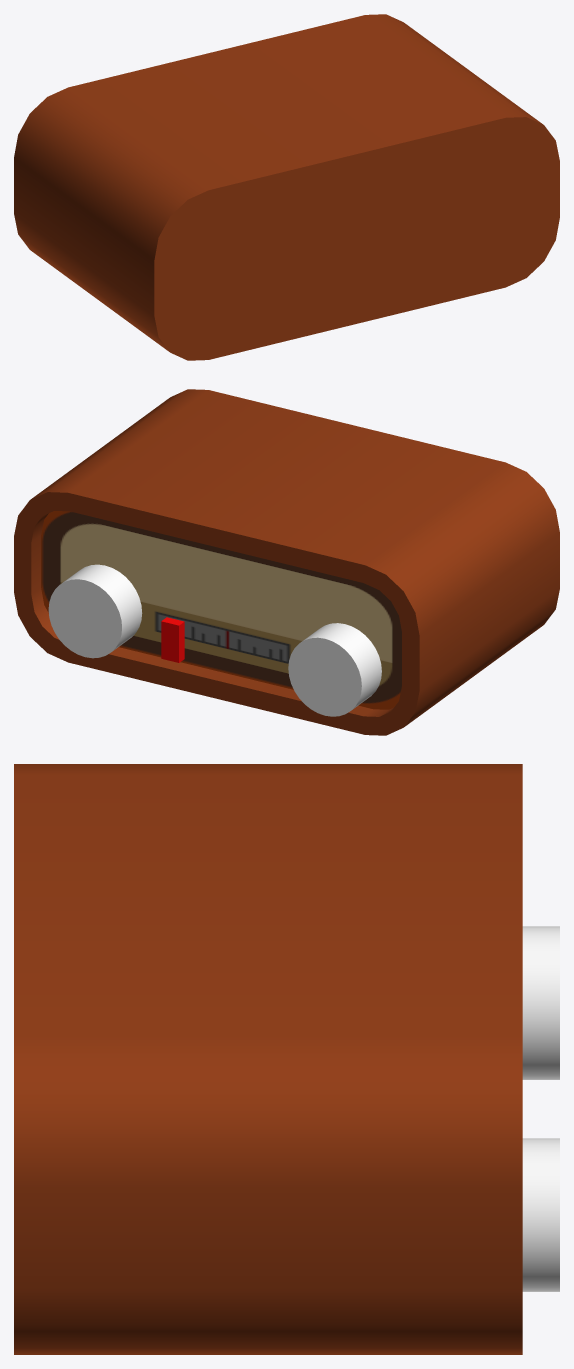
Rendered from Radio.obj.
3 renders of one model, top to bottom at view 1: azimuth 30°, elevation 25°; view 2: azimuth 150°, elevation 25°; view 3: azimuth 270°, elevation 25°, orthographic. The views are drawn at different scales.
Visible parts, largest first — view 1: Box; view 2: Box, Volume, Tune, TuneThing; view 3: Box, Tune, Volume.
Part boxes in pixels (<box>): Box: <box>14,14,559,360</box>; Box: <box>14,389,559,735</box>; Volume: <box>288,623,381,716</box>; Tune: <box>48,564,142,658</box>; TuneThing: <box>161,617,184,662</box>; Box: <box>14,764,522,1354</box>; Tune: <box>522,1138,559,1291</box>; Volume: <box>522,926,559,1079</box>.
Bounding box in the file's own units: 1.13 × 0.4533 × 0.73.
4 materials, 1 textured.
